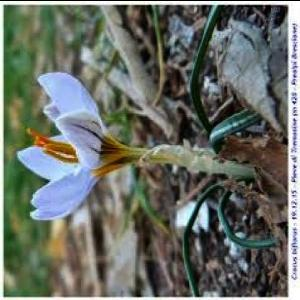Saffron: (17, 71, 144, 217)
